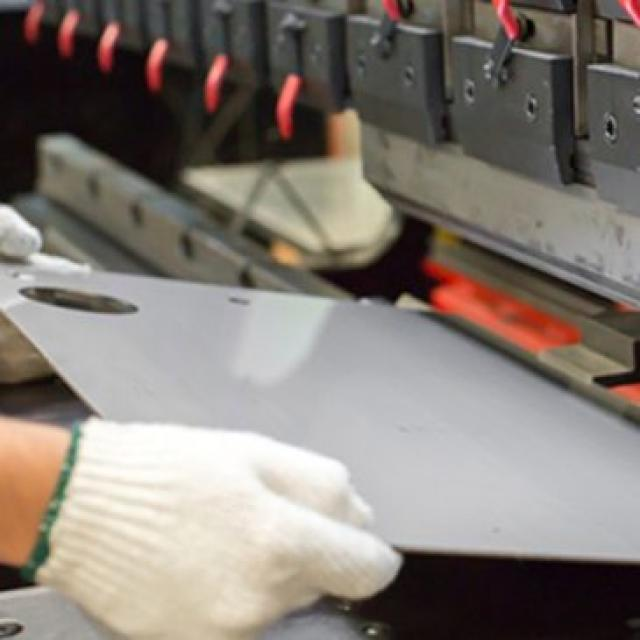gloves: (19, 417, 403, 640)
